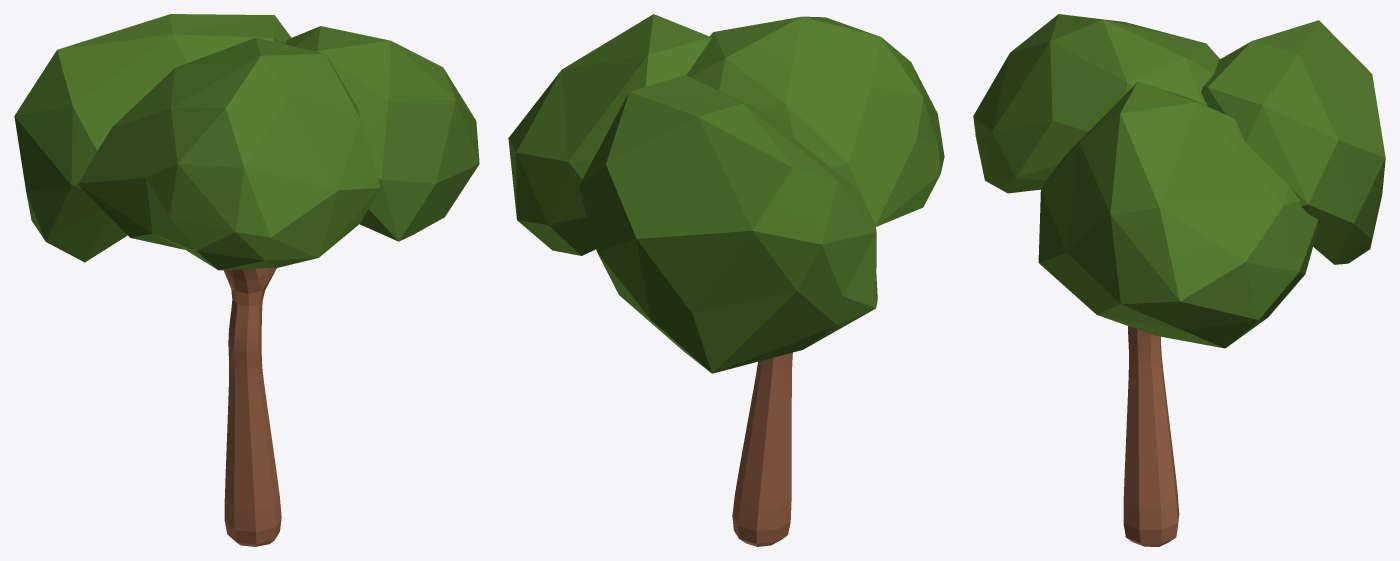
File: -tree3.glb
3 renders of one model, left to right at view 1: azimuth 30°, elevation 25°; view 2: azimuth 150°, elevation 25°; view 3: azimuth 270°, elevation 25°, orthographic.
Parts seen in each view (by area): view 1: tree3; view 2: tree3; view 3: tree3.
Part boxes in pixels (<box>): tree3: <box>14,14,479,546</box>; tree3: <box>508,14,944,546</box>; tree3: <box>973,14,1385,546</box>.
Size of the model in its own units: 1.31 by 1.6 by 1.16.
2 materials, 2 textured.
